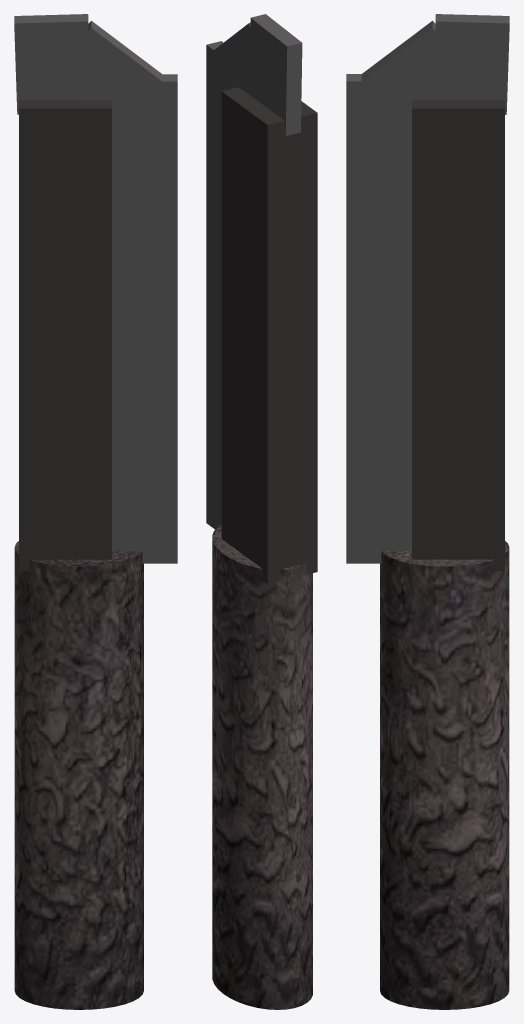
The model's file is sword.glb.
3 renders of one model, left to right at view 1: azimuth 90°, elevation 25°; view 2: azimuth 210°, elevation 25°; view 3: azimuth 270°, elevation 25°, orthographic.
Visible parts, largest first — view 1: Box (×4), Cylinder; view 2: Box (×4), Cylinder; view 3: Box (×4), Cylinder.
Boxes of the visible parts, x1,y1,x2,y2 form: Box (×4): (14, 14, 177, 571); Cylinder: (14, 541, 143, 1009); Box (×4): (206, 14, 317, 583); Cylinder: (212, 525, 312, 1009); Box (×4): (346, 14, 509, 571); Cylinder: (380, 541, 509, 1009).
Bounding box in the file's own units: 0.3915 × 4.61 × 0.7031.
3 materials, 1 textured.
